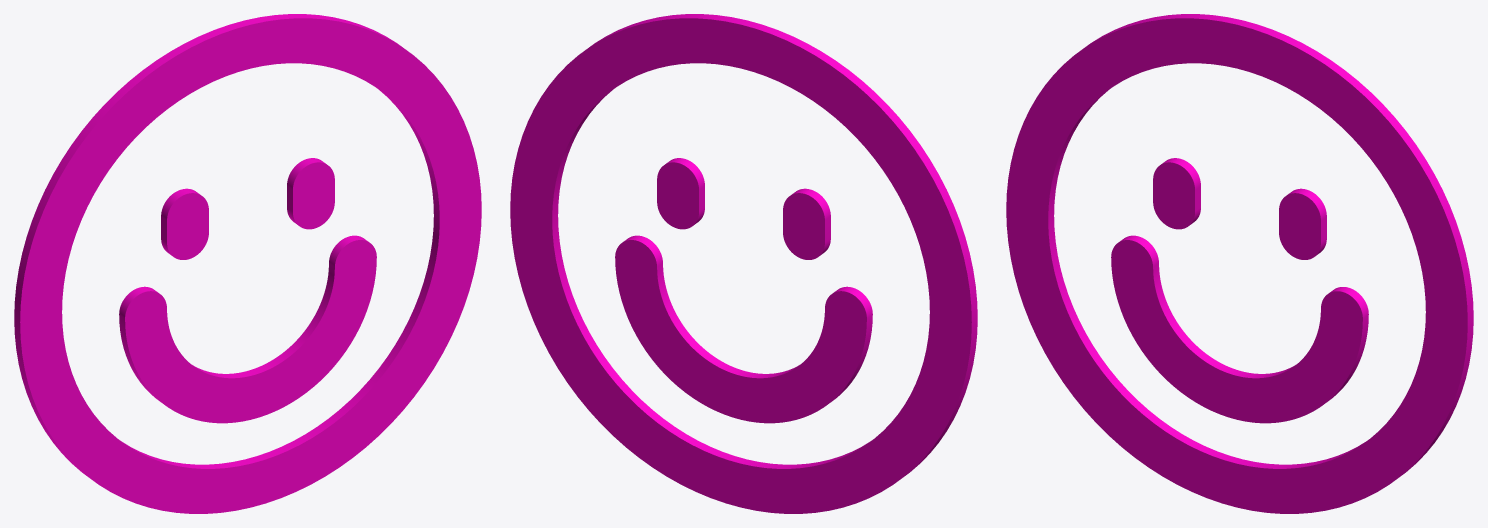
Rendered from smileFace.glb.
The picture shows the model from 3 angles, left to right: view 1: azimuth 30°, elevation 25°; view 2: azimuth 150°, elevation 25°; view 3: azimuth 330°, elevation 25°; orthographic projection.
Visible parts, largest first — view 1: Curve; view 2: Curve; view 3: Curve.
Part boxes in pixels (x1,y1,x2,y2): Curve: (14, 14, 481, 513); Curve: (510, 14, 977, 513); Curve: (1006, 14, 1473, 513).
Bounding box in the file's own units: 7.02 × 7.01 × 0.1559.
